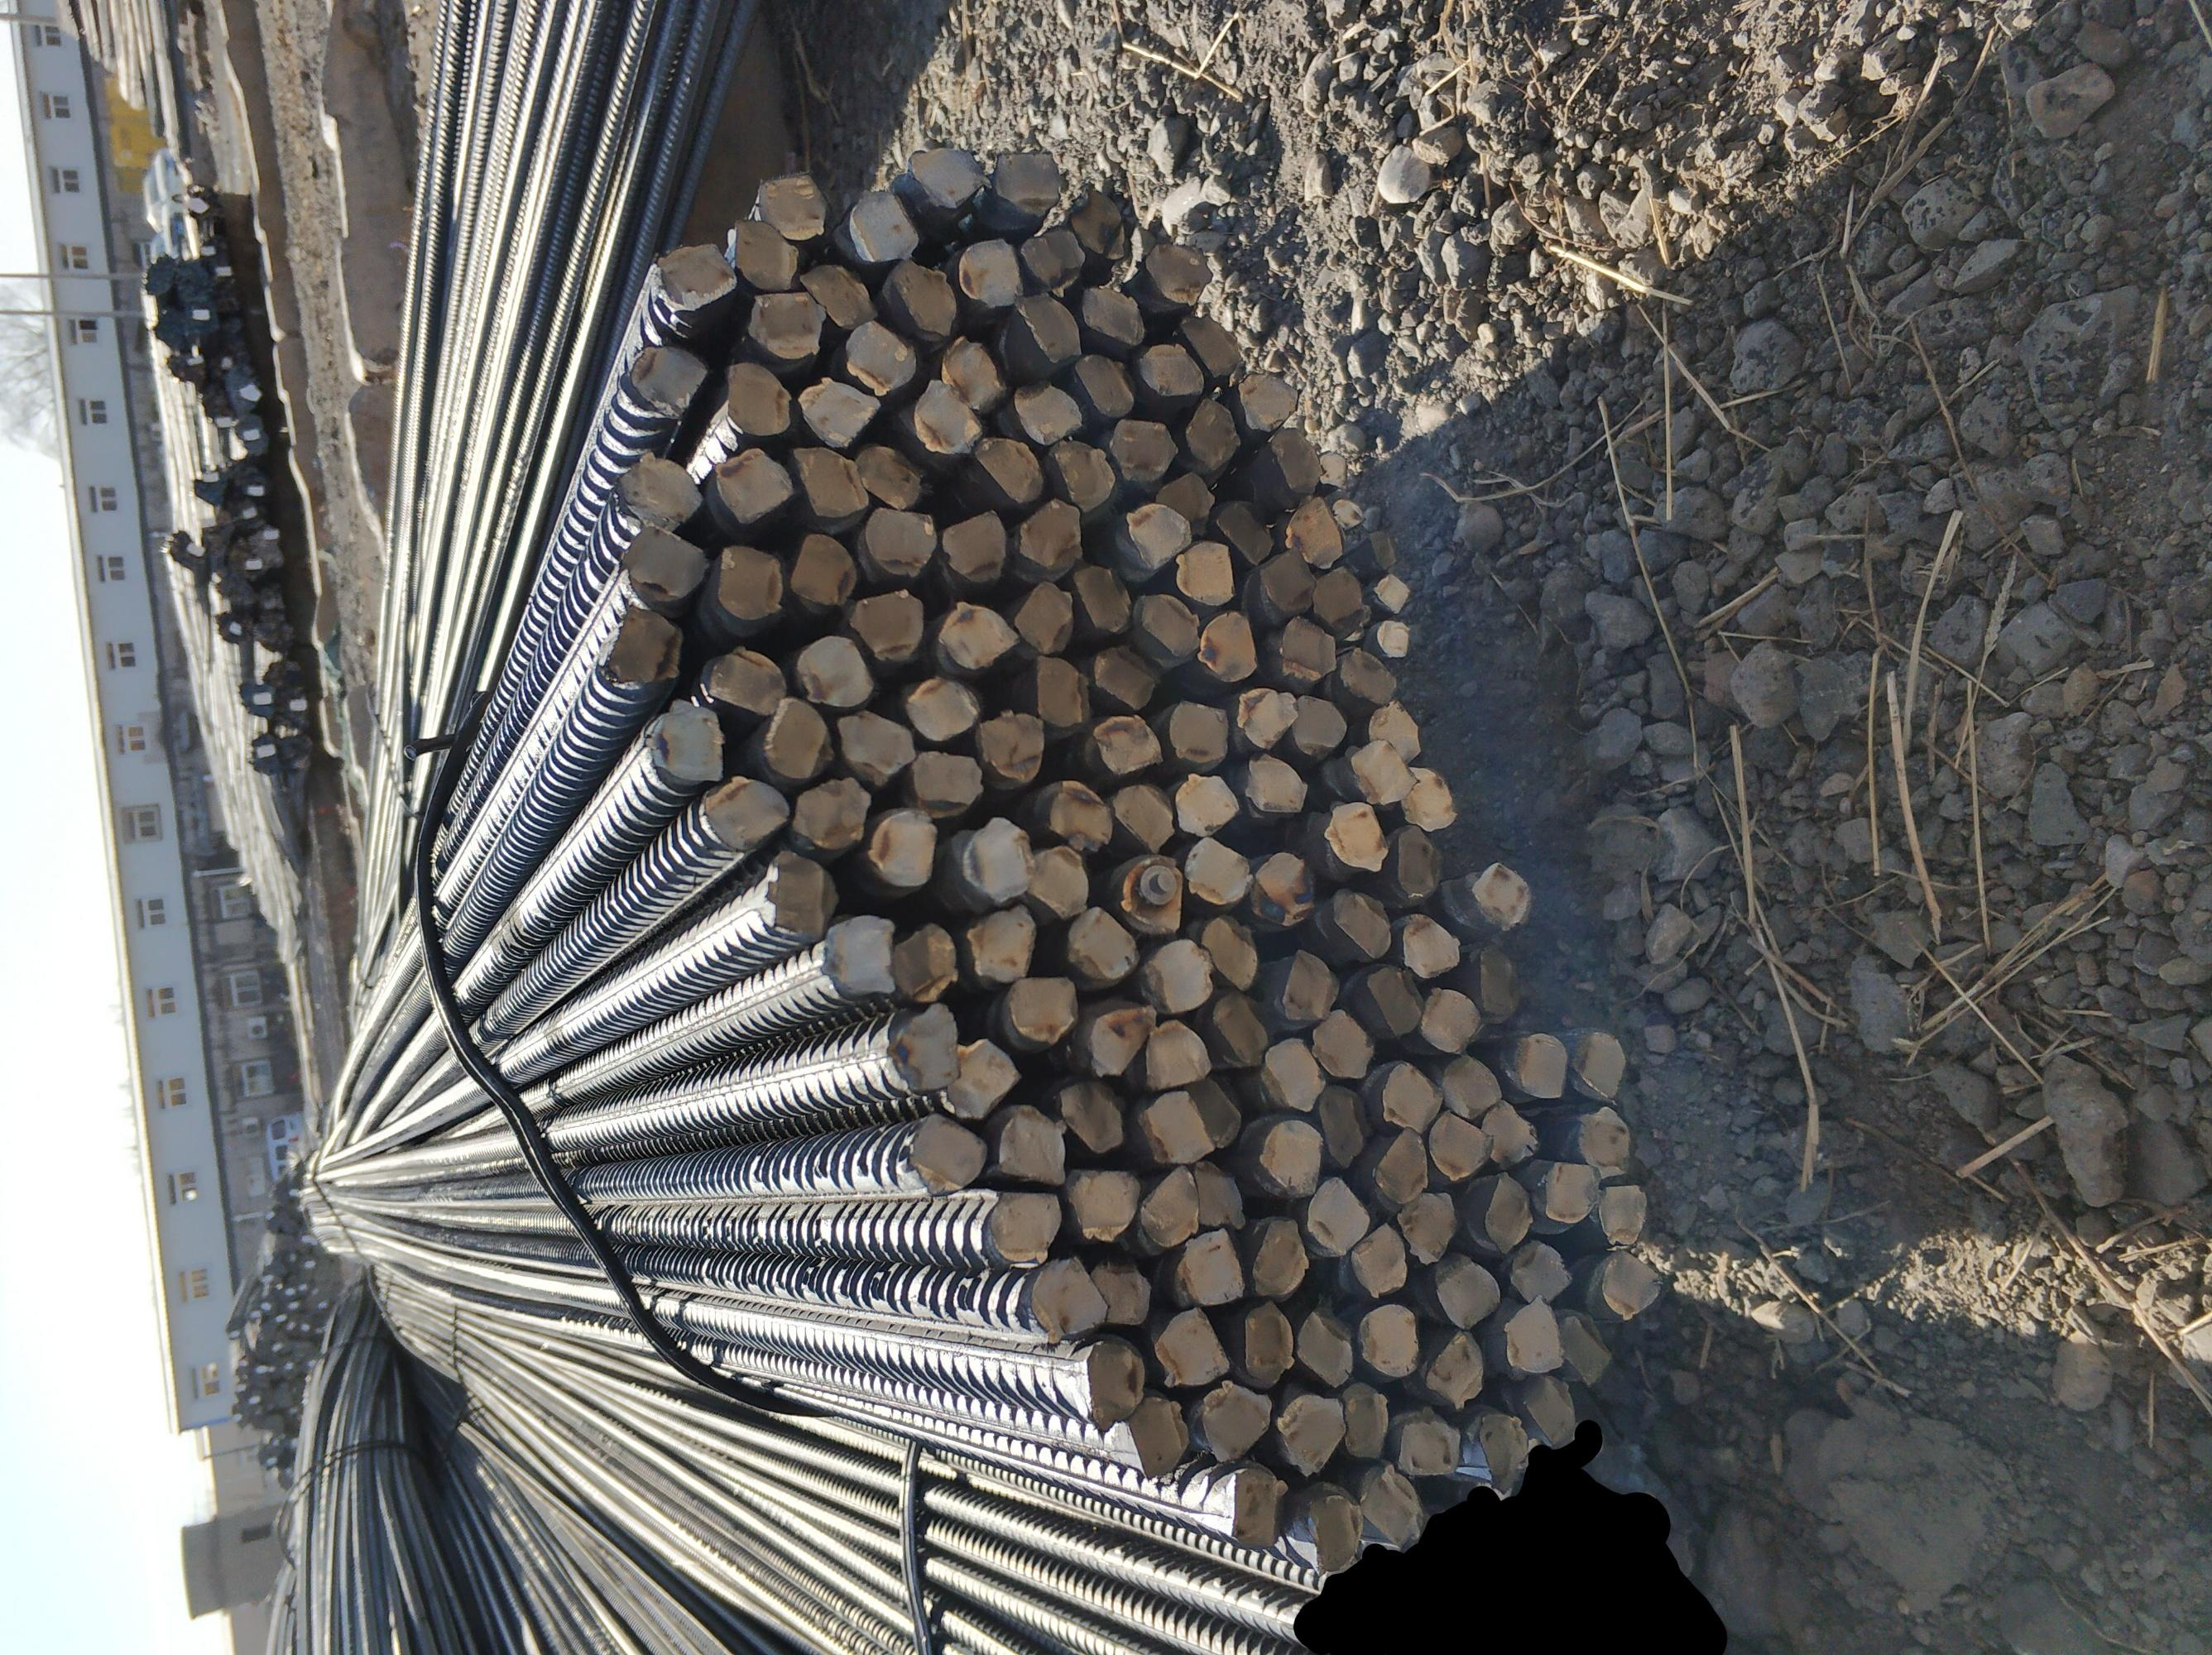bar: (975, 1102, 1076, 1187), (784, 440, 871, 535), (639, 694, 726, 786), (610, 449, 704, 534), (950, 814, 1034, 907), (933, 1036, 1023, 1121), (1027, 1255, 1110, 1347), (1239, 1113, 1324, 1201), (707, 445, 798, 528), (619, 522, 711, 603), (961, 901, 1041, 994), (700, 772, 792, 852), (765, 848, 841, 944), (909, 1109, 989, 1200), (886, 1000, 963, 1093), (1150, 1302, 1232, 1389), (792, 370, 883, 449), (759, 692, 836, 784), (853, 504, 938, 586), (818, 911, 897, 1000), (697, 641, 789, 716), (834, 708, 916, 791), (1168, 1226, 1248, 1311), (1081, 1332, 1147, 1434), (1289, 1479, 1362, 1572), (1190, 986, 1272, 1067), (789, 774, 872, 854), (792, 633, 878, 711), (935, 596, 1023, 671), (1229, 1295, 1296, 1392), (1062, 1165, 1143, 1245), (1135, 1088, 1218, 1166), (608, 602, 686, 685), (1032, 775, 1116, 854), (1458, 1170, 1534, 1255), (862, 803, 938, 888), (1081, 994, 1157, 1080), (784, 530, 858, 617), (626, 341, 709, 417), (1274, 1391, 1347, 1478), (1199, 1379, 1272, 1466), (844, 586, 926, 662), (1136, 1158, 1204, 1250), (1242, 1212, 1310, 1304), (745, 287, 829, 362), (1109, 852, 1183, 935), (1301, 1172, 1373, 1259), (1357, 1460, 1427, 1549), (841, 318, 919, 396), (985, 1187, 1063, 1266), (1187, 911, 1262, 993), (853, 438, 935, 513), (794, 261, 881, 330), (890, 918, 959, 1005), (844, 186, 921, 264), (1291, 1292, 1354, 1387), (1063, 904, 1140, 982), (973, 704, 1046, 786), (655, 242, 738, 313), (902, 146, 994, 210), (1138, 937, 1215, 1014), (937, 506, 1010, 586), (905, 746, 985, 819), (888, 257, 959, 339), (714, 539, 785, 621), (1128, 1392, 1192, 1483), (1249, 847, 1319, 928), (1423, 1326, 1487, 1413), (1004, 972, 1079, 1047), (1056, 1080, 1131, 1154), (721, 360, 794, 436), (1011, 495, 1084, 572), (912, 377, 983, 455), (938, 334, 1008, 414), (902, 673, 982, 742), (1500, 1292, 1566, 1375), (1225, 1464, 1289, 1549), (1010, 289, 1083, 363), (971, 431, 1044, 506), (1180, 833, 1255, 906), (730, 216, 801, 292), (1258, 1034, 1328, 1113), (1314, 1083, 1376, 1170), (1548, 1309, 1616, 1389), (1432, 1255, 1501, 1332), (1307, 1005, 1376, 1081), (1107, 779, 1176, 855), (1010, 575, 1076, 655), (1348, 737, 1421, 808), (1119, 501, 1194, 570), (1321, 798, 1390, 873), (1050, 438, 1117, 515), (1378, 1059, 1446, 1135), (1394, 1189, 1461, 1266), (1427, 1106, 1494, 1182), (990, 151, 1069, 217), (1355, 1300, 1421, 1379), (754, 170, 827, 240), (1107, 414, 1180, 483), (1169, 770, 1242, 840), (1143, 1017, 1213, 1090), (956, 235, 1023, 309), (1010, 379, 1084, 447), (1324, 885, 1392, 960), (1183, 1073, 1249, 1149), (1027, 652, 1093, 728), (1027, 843, 1091, 921), (1347, 1219, 1409, 1299), (1089, 641, 1159, 713), (1142, 240, 1215, 308), (1475, 1095, 1541, 1170), (1089, 711, 1164, 777), (1371, 1123, 1430, 1206), (1277, 947, 1341, 1024), (1474, 1410, 1531, 1495), (1194, 608, 1258, 683), (1599, 1246, 1663, 1321), (1364, 963, 1427, 1040), (1282, 494, 1343, 572), (1394, 911, 1461, 980), (1162, 695, 1229, 767), (1088, 1255, 1154, 1326), (1468, 859, 1533, 932), (1070, 560, 1133, 635), (1182, 396, 1242, 473), (1571, 1102, 1632, 1179), (1133, 589, 1201, 657), (1169, 539, 1235, 608), (1232, 685, 1301, 751), (1258, 544, 1321, 617), (1418, 982, 1480, 1055), (1519, 1373, 1580, 1448), (1468, 942, 1524, 1024), (1069, 184, 1128, 261), (1017, 224, 1084, 290), (1176, 311, 1242, 379), (1507, 1240, 1574, 1306), (1072, 349, 1136, 419), (1439, 1052, 1503, 1121), (1154, 469, 1216, 541), (1388, 822, 1444, 902), (1510, 1029, 1571, 1102), (1395, 763, 1458, 833), (1189, 1158, 1248, 1231), (1079, 282, 1145, 346), (1242, 751, 1308, 815), (1215, 499, 1277, 567), (1395, 1417, 1463, 1479), (1338, 1380, 1390, 1460), (1275, 614, 1336, 681), (1336, 643, 1399, 708), (1289, 692, 1347, 761), (1235, 370, 1298, 433), (1540, 1158, 1599, 1224), (1576, 1027, 1628, 1102), (1267, 428, 1324, 495), (1136, 342, 1206, 398), (1366, 699, 1421, 767), (1310, 563, 1366, 629), (1597, 1180, 1649, 1246), (1371, 570, 1411, 615), (1373, 619, 1411, 659), (1328, 495, 1366, 532), (1315, 449, 1348, 490), (1364, 528, 1397, 570)
